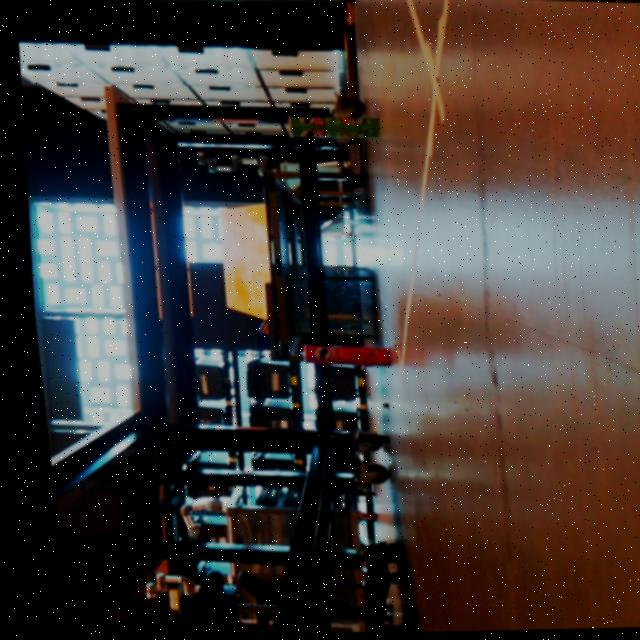greenpringles: (267, 97, 386, 151)
redpringles: (275, 332, 404, 384)
